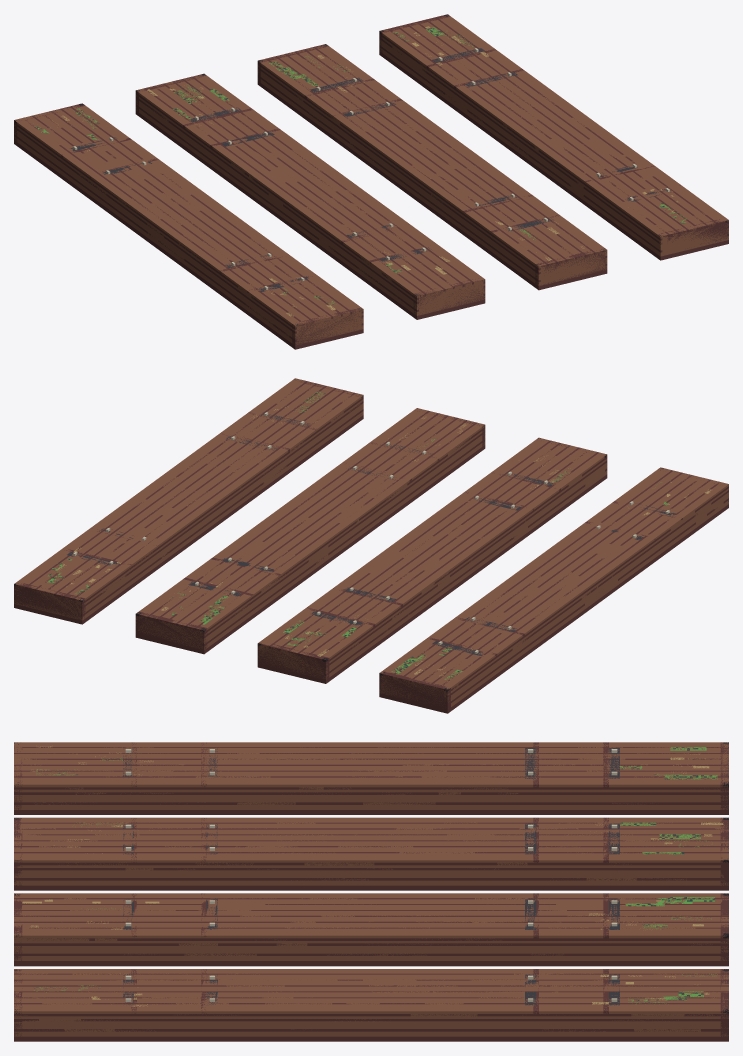
Rendered from track_sleepers.glb.
3 views of the same model, one above another, from view 1: azimuth 30°, elevation 25°; view 2: azimuth 150°, elevation 25°; view 3: azimuth 270°, elevation 25° (orthographic). The views are drawn at different scales.
Visible parts, largest first — view 1: Untitled, Untitled.001, Untitled.002, Untitled.003; view 2: Untitled, Untitled.001, Untitled.002, Untitled.003; view 3: Untitled, Untitled.001, Untitled.002, Untitled.003.
Boxes of the visible parts, x1,y1,x2,y2 form: Untitled: (14,14,728,349); Untitled.001: (14,15,728,348); Untitled.002: (18,20,726,339); Untitled.003: (14,19,711,337); Untitled: (14,378,728,713); Untitled.001: (14,379,728,712); Untitled.002: (29,379,728,706); Untitled.003: (14,384,720,701); Untitled: (14,742,728,1041); Untitled.001: (14,742,728,1041); Untitled.002: (14,742,727,1036); Untitled.003: (17,742,728,1036).
Size of the model in its own units: 22.8 by 1.3 by 25.6.
Materials: 4 (4 with a texture image).
